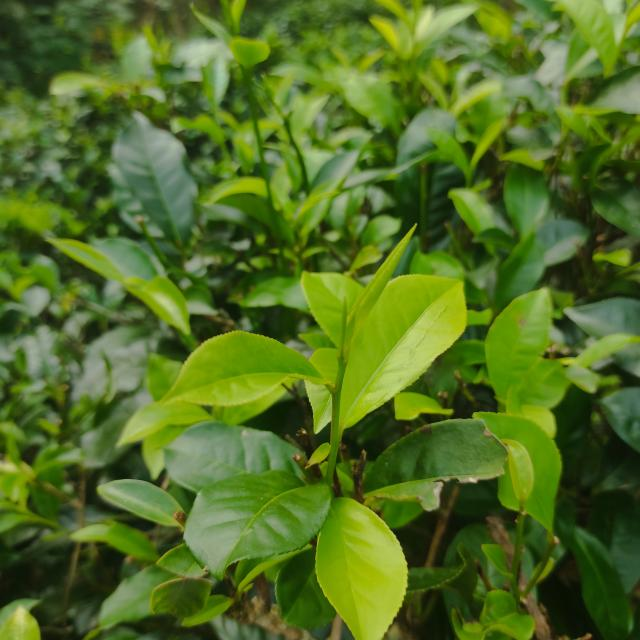unopened_leaf: (340, 220, 421, 359), (330, 290, 357, 368)
